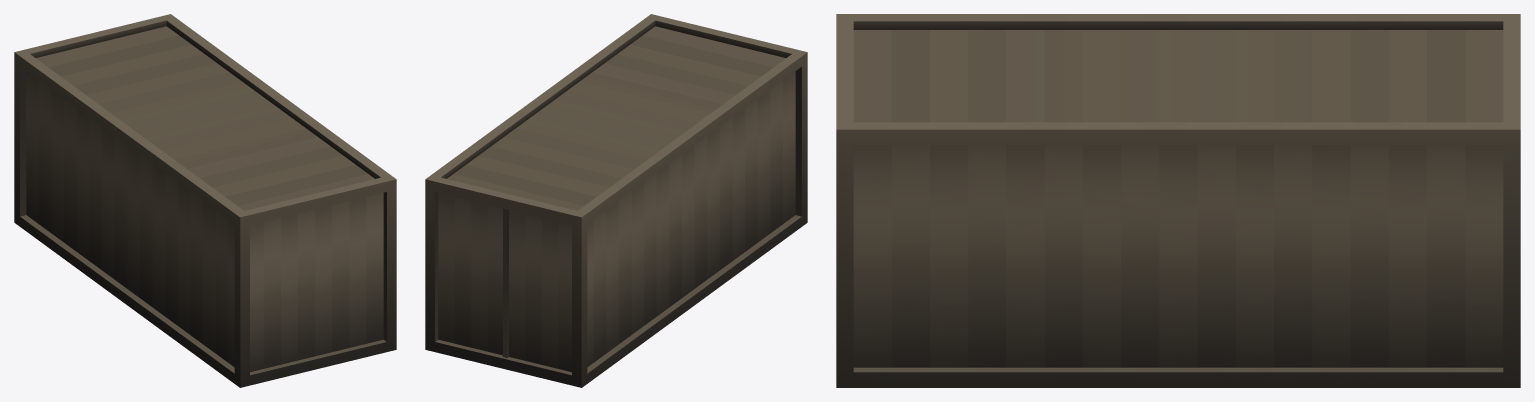
The model's file is Container_1A.fbx.
3 views of the same model, side by side, from view 1: azimuth 30°, elevation 25°; view 2: azimuth 150°, elevation 25°; view 3: azimuth 270°, elevation 25° (orthographic). The views are drawn at different scales.
Parts seen in each view (by area): view 1: Container_1A_D; view 2: Container_1A_D; view 3: Container_1A_D.
Part boxes in pixels (<box>): Container_1A_D: <box>14,14,396,387</box>; Container_1A_D: <box>425,14,807,387</box>; Container_1A_D: <box>836,14,1520,387</box>.
Bounding box in the file's own units: 2.4 × 2.5 × 6.
